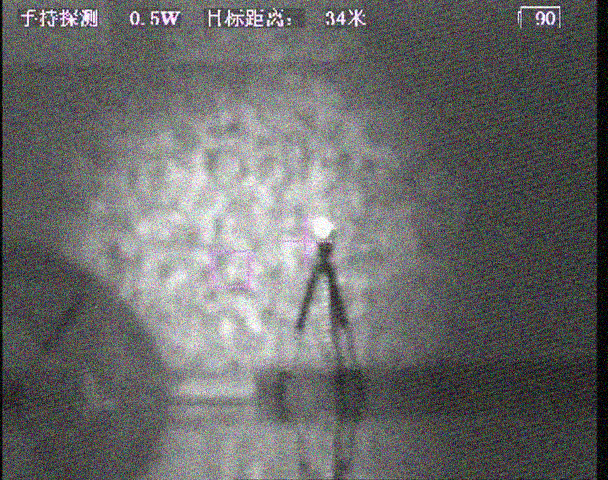my: (309, 214, 335, 241)
